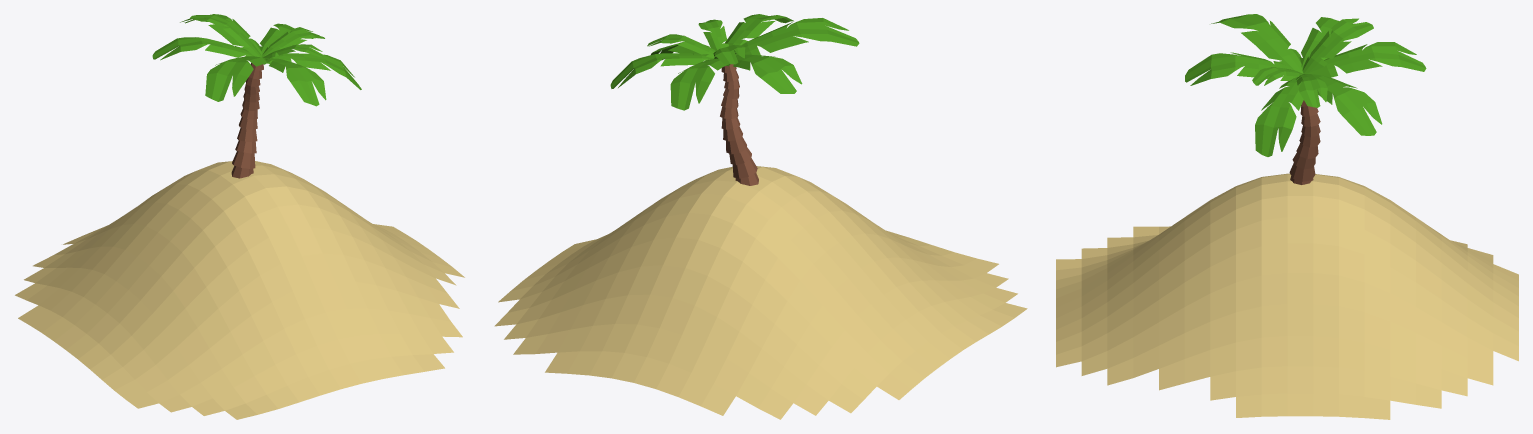
The model's file is island.glb.
3 views of the same model, side by side, from view 1: azimuth 30°, elevation 25°; view 2: azimuth 150°, elevation 25°; view 3: azimuth 270°, elevation 25° (orthographic). The views are drawn at different scales.
Parts seen in each view (by area): view 1: Plane.003; view 2: Plane.003; view 3: Plane.003.
Part boxes in pixels (x1,y1,x2,y2): Plane.003: (15,14,464,419); Plane.003: (494,14,1027,419); Plane.003: (1056,14,1518,419).
Bounding box in the file's own units: 20.28 × 14.22 × 20.28.
